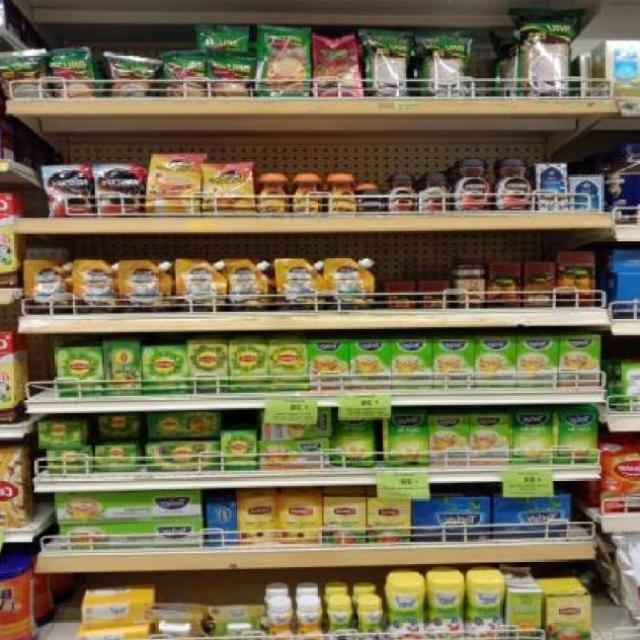Coffee: (147, 154, 201, 213), (203, 165, 252, 215), (45, 166, 93, 216), (98, 164, 143, 216), (494, 158, 532, 210), (454, 157, 490, 210), (256, 174, 289, 213), (290, 174, 323, 213), (418, 174, 450, 211), (388, 174, 417, 211), (326, 174, 354, 212), (359, 189, 385, 211)
